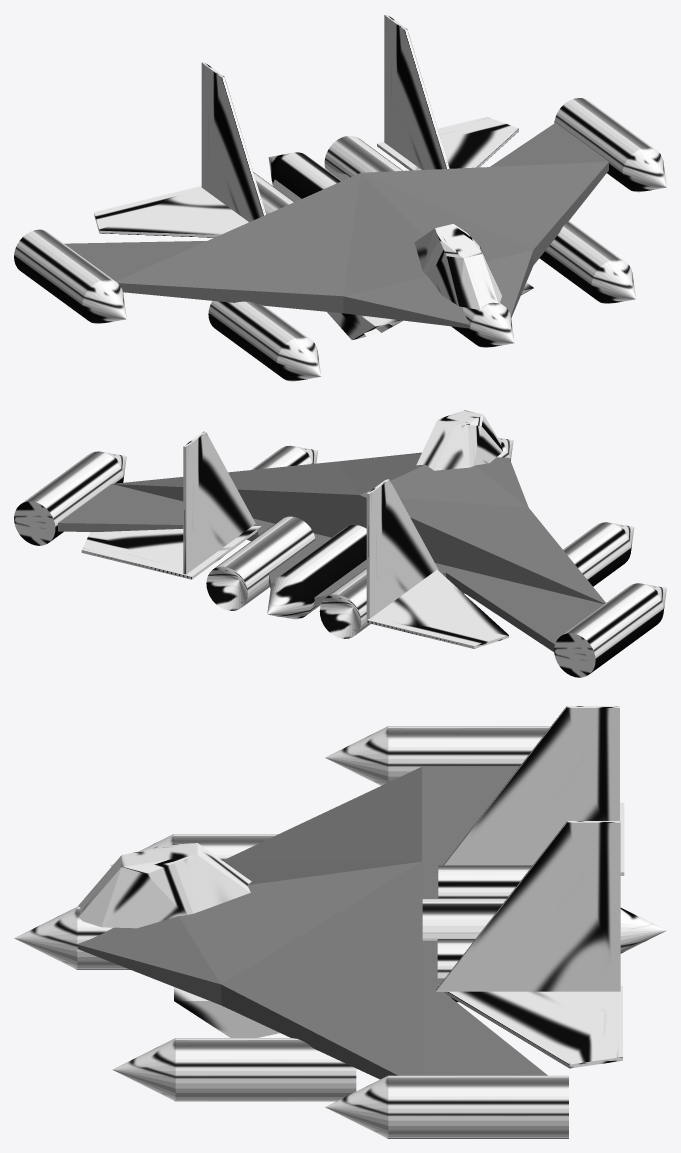
File: fighter_ver1.0.obj
The picture shows the model from 3 angles, top to bottom: view 1: azimuth 30°, elevation 25°; view 2: azimuth 150°, elevation 25°; view 3: azimuth 270°, elevation 25°; orthographic projection. The views are drawn at different scales.
Visible parts, largest first — view 1: 円錐.001; view 2: 円錐.001; view 3: 円錐.001.
Part boxes in pixels (x1,y1,x2,y2): 円錐.001: [14, 14, 666, 381]; 円錐.001: [14, 410, 666, 677]; 円錐.001: [14, 706, 666, 1138].
Bounding box in the file's own units: 1.27 × 0.3756 × 0.9306.
3 materials, 3 textured.
